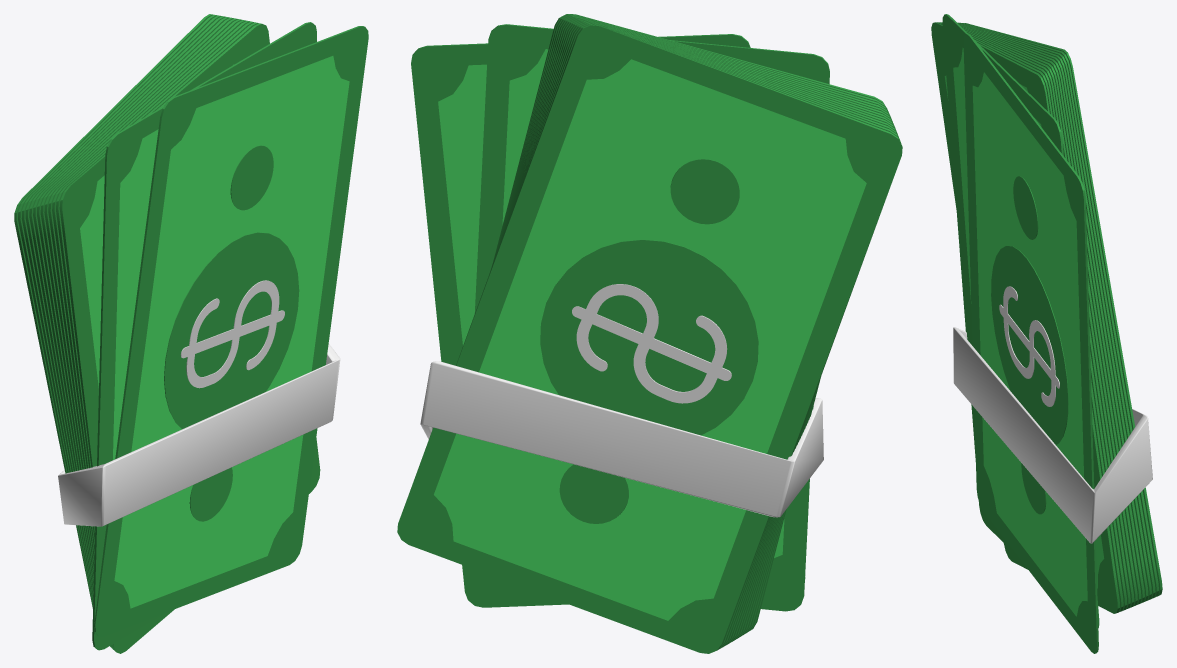
Rendered from banknote-3d-animated-icon-1637813513125.glb.
3 renders of one model, left to right at view 1: azimuth 30°, elevation 25°; view 2: azimuth 150°, elevation 25°; view 3: azimuth 270°, elevation 25°, orthographic. The views are drawn at different scales.
Visible parts, largest first — view 1: Plane, Plane.002, Cube, Plane.001, Curve.001; view 2: Plane.002, Cube, Plane, Plane.001, Curve.002; view 3: Plane, Plane.002, Cube, Plane.001, Curve.001.
Part boxes in pixels (x1,y1,x2,y2): Plane: [93, 26, 368, 636]; Plane.002: [14, 14, 320, 653]; Cube: [58, 343, 340, 526]; Plane.001: [92, 22, 316, 650]; Curve.001: [180, 280, 284, 388]; Plane.002: [397, 14, 902, 653]; Cube: [420, 361, 823, 517]; Plane: [411, 34, 805, 607]; Plane.001: [462, 24, 829, 611]; Curve.002: [572, 284, 731, 403]; Plane: [963, 33, 1098, 653]; Plane.002: [931, 22, 1162, 613]; Cube: [953, 327, 1152, 543]; Plane.001: [942, 14, 1099, 627]; Curve.001: [999, 286, 1059, 406].
Size of the model in its own units: 1.56 by 2.12 by 0.7846.
